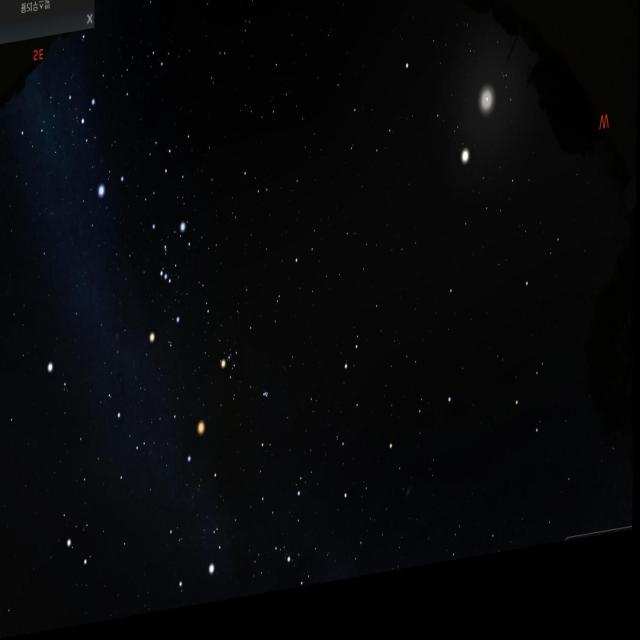canis_major: (74, 84, 128, 205)
canis_minor: (46, 348, 78, 399)
gemini: (58, 413, 151, 598)
moon: (473, 89, 504, 151)
orion: (137, 227, 183, 360)
pleiades: (262, 390, 276, 414)
taurus: (219, 330, 278, 437)
